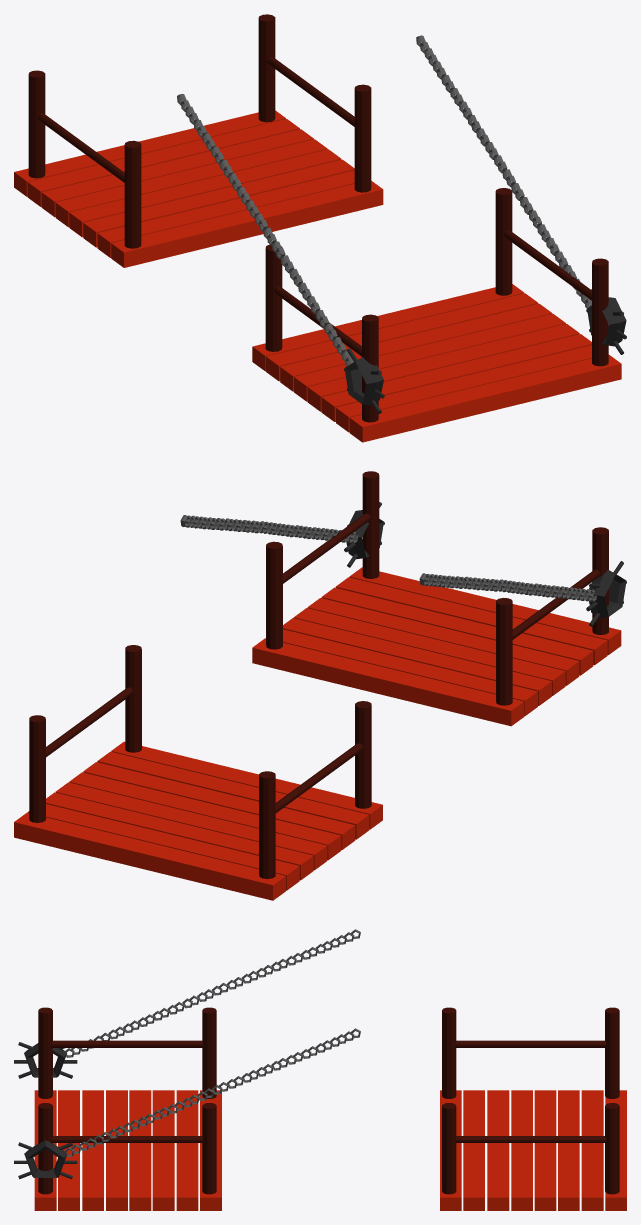
The model's file is puente.obj.
3 views of the same model, one above another, from view 1: azimuth 30°, elevation 25°; view 2: azimuth 150°, elevation 25°; view 3: azimuth 270°, elevation 25° (orthographic). The views are drawn at different scales.
Parts seen in each view (by area): view 1: Puente_Cube.018; view 2: Puente_Cube.018; view 3: Puente_Cube.018.
Boxes of the visible parts, x1,y1,x2,y2 form: Puente_Cube.018: [14, 14, 626, 442]; Puente_Cube.018: [14, 471, 626, 900]; Puente_Cube.018: [14, 929, 626, 1210].
Size of the model in its own units: 7.03 by 5.39 by 16.87.
